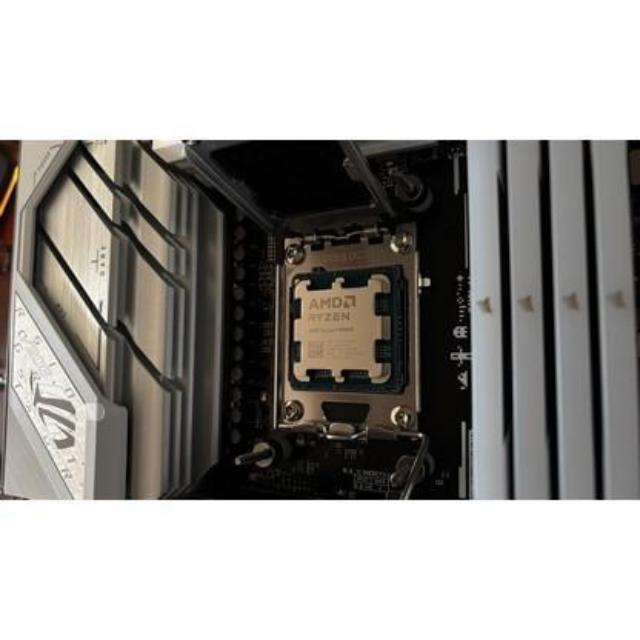CPU: (293, 282, 390, 380)
